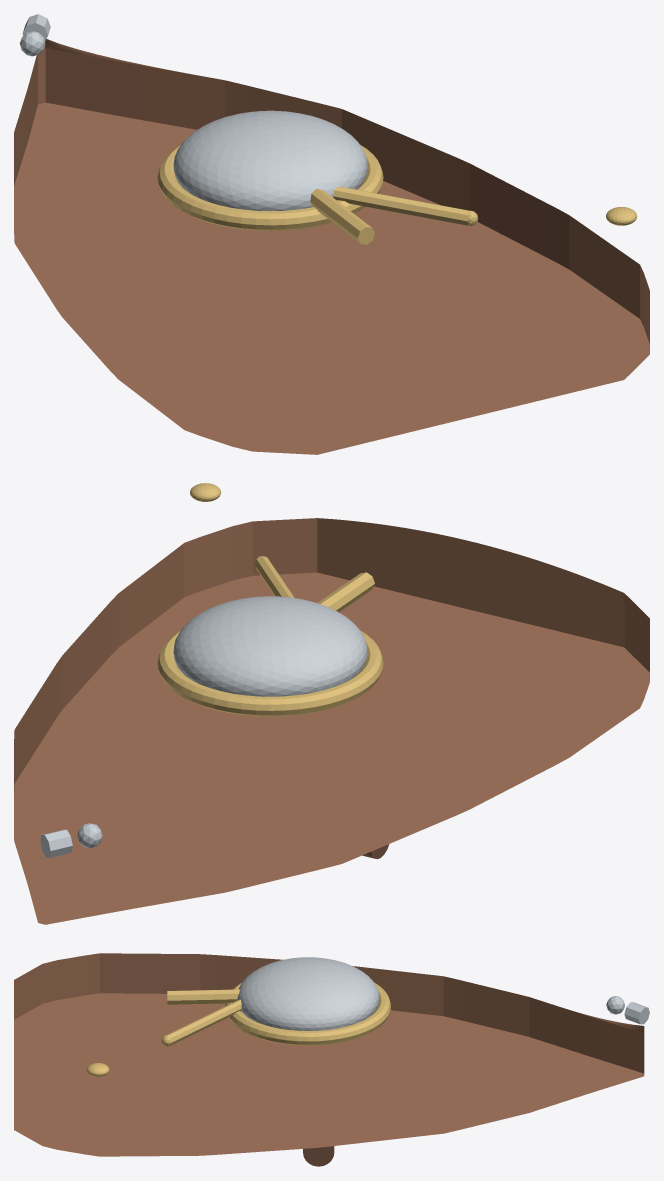
File: medieval_heater_shield.glb
The picture shows the model from 3 angles, top to bottom: view 1: azimuth 30°, elevation 25°; view 2: azimuth 150°, elevation 25°; view 3: azimuth 270°, elevation 25°; orthographic projection. The views are drawn at different scales.
Parts seen in each view (by area): view 1: Shield_Wood_Core, Central_Steel_Boss, Boss_Brass_Ring, Chevron_Ornament, Upper_Central_Ornament; view 2: Shield_Wood_Core, Central_Steel_Boss, Boss_Brass_Ring, Upper_Central_Ornament, Steel_Edge_Rim, Chevron_Ornament; view 3: Shield_Wood_Core, Central_Steel_Boss, Boss_Brass_Ring, Upper_Central_Ornament, Chevron_Ornament, Rear_Leather_Grip, Steel_Edge_Rim.
Boxes of the visible parts, x1=… form: Shield_Wood_Core: x1=14, y1=39, x2=649, y2=454; Central_Steel_Boss: x1=173, y1=110, x2=367, y2=211; Boss_Brass_Ring: x1=157, y1=145, x2=383, y2=230; Chevron_Ornament: x1=333, y1=186, x2=470, y2=225; Upper_Central_Ornament: x1=310, y1=188, x2=374, y2=244; Shield_Wood_Core: x1=14, y1=518, x2=649, y2=924; Central_Steel_Boss: x1=173, y1=596, x2=367, y2=696; Boss_Brass_Ring: x1=157, y1=630, x2=383, y2=716; Upper_Central_Ornament: x1=317, y1=572, x2=374, y2=611; Steel_Edge_Rim: x1=40, y1=829, x2=72, y2=857; Chevron_Ornament: x1=254, y1=556, x2=294, y2=597; Shield_Wood_Core: x1=14, y1=953, x2=644, y2=1156; Central_Steel_Boss: x1=237, y1=957, x2=379, y2=1030; Boss_Brass_Ring: x1=225, y1=982, x2=390, y2=1045; Upper_Central_Ornament: x1=167, y1=989, x2=239, y2=1004; Chevron_Ornament: x1=165, y1=999, x2=241, y2=1045; Rear_Leather_Grip: x1=303, y1=1146, x2=334, y2=1166; Steel_Edge_Rim: x1=624, y1=1002, x2=649, y2=1024.
Bounding box in the file's own units: 1.84 × 0.8078 × 3.03.
